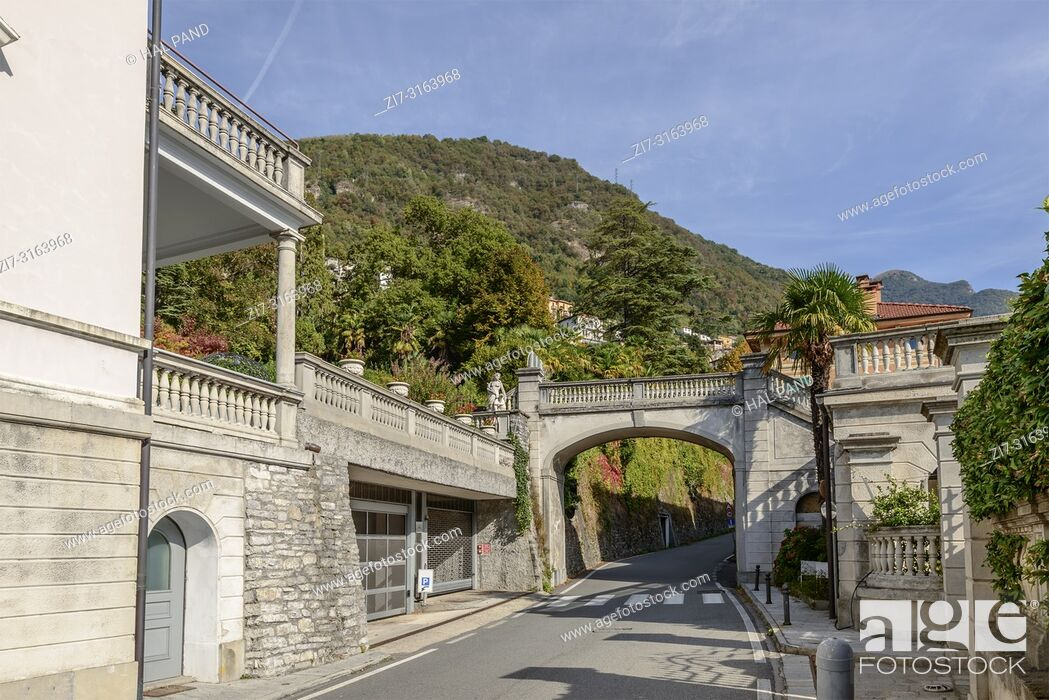bridge: (513, 372, 774, 579)
